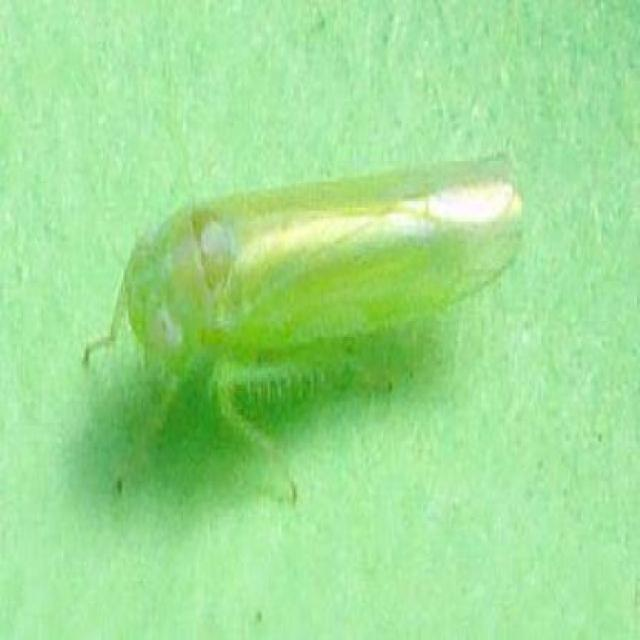green-leafhopper: (119, 161, 519, 382)
